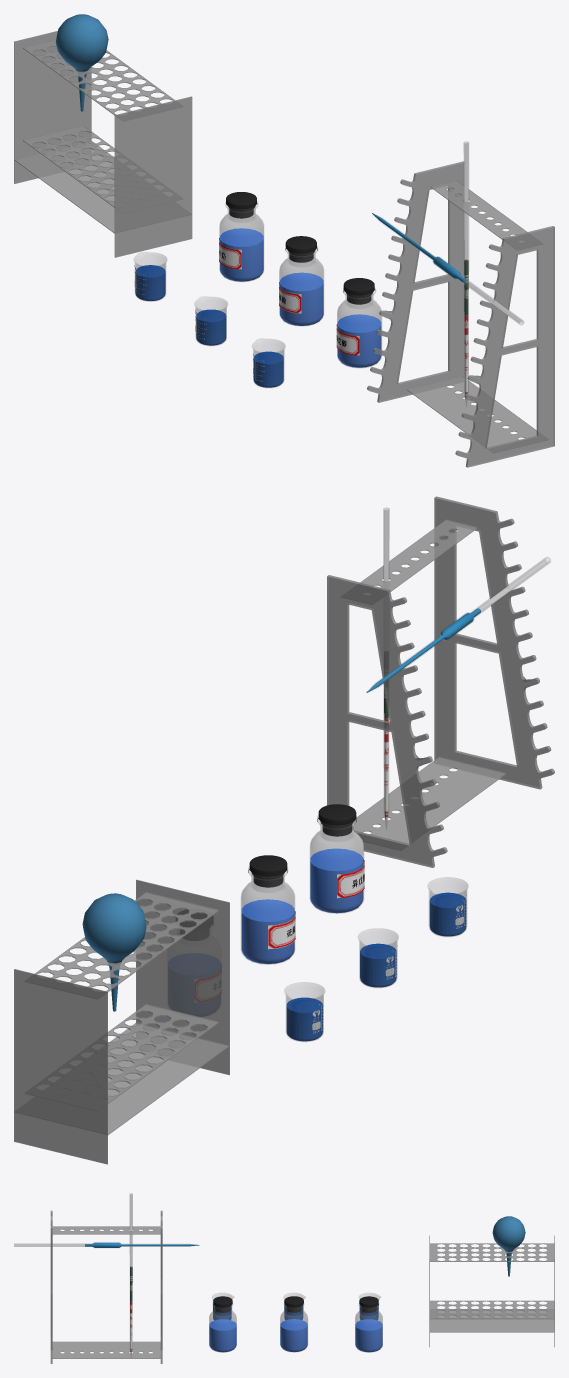
The model's file is SM_食品_盖勃法测定.FBX.
The picture shows the model from 3 angles, top to bottom: view 1: azimuth 30°, elevation 25°; view 2: azimuth 150°, elevation 25°; view 3: azimuth 270°, elevation 25°; orthographic projection. The views are drawn at different scales.
Visible parts, largest first — view 1: SM_G吹耳球置放架, SM_G移液管置放架, SM_G异戊醇, SM_G硫酸, SM_G纯牛奶, SM_G洗耳球, SM_G烧杯2, SM_G烧杯3, SM_G烧杯, SM_G移液管1ML, SM_G移液管10ML, SM_溶剂2 (+5 smaller); view 2: SM_G吹耳球置放架, SM_G移液管置放架, SM_G硫酸, SM_G异戊醇, SM_G洗耳球, SM_G纯牛奶, SM_G烧杯2, SM_G烧杯, SM_G烧杯3, SM_G移液管10ML, SM_溶剂3, SM_溶剂2 (+4 smaller); view 3: SM_G吹耳球置放架, SM_G移液管置放架, SM_G纯牛奶, SM_G异戊醇, SM_G硫酸, SM_G洗耳球, SM_G移液管10ML, SM_G移液管1ML, SM_G纯牛奶盖子, SM_G异戊醇盖子, SM_G硫酸盖子.
Part boxes in pixels (x1,y1,x2,y2): SM_G吹耳球置放架: (14,31,192,257); SM_G移液管置放架: (367,161,554,467); SM_G异戊醇: (336,288,381,368); SM_G硫酸: (279,246,323,326); SM_G纯牛奶: (219,201,263,281); SM_G洗耳球: (55,14,108,111); SM_G烧杯2: (194,296,227,345); SM_G烧杯3: (252,338,285,387); SM_G烧杯: (133,252,167,301); SM_G移液管1ML: (463,141,468,405); SM_G移液管10ML: (372,213,523,325); SM_溶剂2: (196,309,226,345); SM_G吹耳球置放架: (14,879,229,1164); SM_G移液管置放架: (327,496,554,867); SM_G硫酸: (241,866,295,964); SM_G异戊醇: (310,815,364,913); SM_G洗耳球: (82,893,146,1011); SM_G纯牛奶: (168,928,221,1016); SM_G烧杯2: (358,928,398,987); SM_G烧杯: (284,982,324,1041); SM_G烧杯3: (427,877,468,936); SM_G移液管10ML: (366,557,550,692); SM_溶剂3: (429,892,466,936); SM_溶剂2: (360,943,396,987); SM_G吹耳球置放架: (429,1235,554,1347); SM_G移液管置放架: (50,1210,162,1363); SM_G纯牛奶: (355,1303,382,1352); SM_G异戊醇: (209,1303,236,1352); SM_G硫酸: (280,1303,307,1352); SM_G洗耳球: (492,1216,525,1276); SM_G移液管10ML: (14,1242,199,1247); SM_G移液管1ML: (129,1193,132,1353); SM_G纯牛奶盖子: (359,1296,378,1312); SM_G异戊醇盖子: (213,1296,232,1312); SM_G硫酸盖子: (284,1296,303,1312).
Size of the model in its own units: 18.76 by 87 by 29.14.
